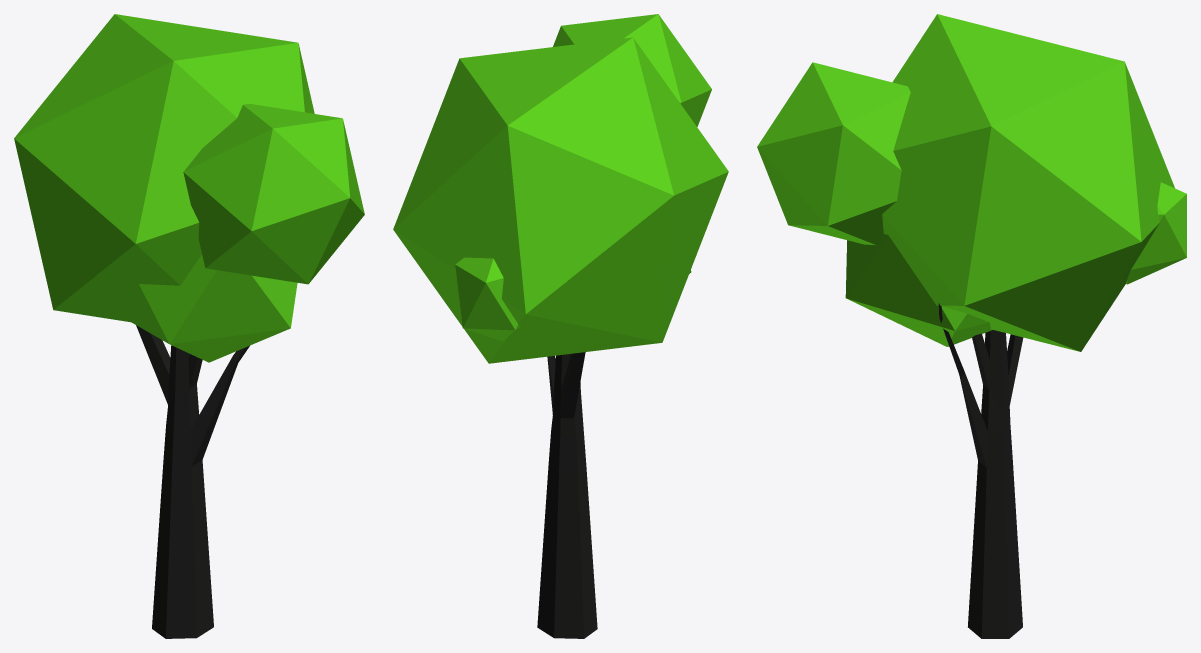
File: tree1.fbx
3 renders of one model, left to right at view 1: azimuth 30°, elevation 25°; view 2: azimuth 150°, elevation 25°; view 3: azimuth 270°, elevation 25°, orthographic. The views are drawn at different scales.
Visible parts, largest first — view 1: Icosphere.015, Icosphere.019, Cylinder.002, Icosphere.018; view 2: Icosphere.015, Cylinder.002, Icosphere.019, Icosphere.017; view 3: Icosphere.015, Icosphere.019, Cylinder.002, Icosphere.018, Icosphere.017.
Part boxes in pixels (left/top/right/bottom): Icosphere.015: left=14, top=14, right=314, bottom=322; Icosphere.019: left=183, top=103, right=364, bottom=284; Cylinder.002: left=136, top=325, right=249, bottom=638; Icosphere.018: left=120, top=254, right=297, bottom=362; Icosphere.015: left=393, top=37, right=728, bottom=363; Cylinder.002: left=537, top=352, right=597, bottom=638; Icosphere.019: left=553, top=14, right=711, bottom=126; Icosphere.017: left=455, top=257, right=520, bottom=341; Icosphere.015: left=882, top=14, right=1174, bottom=351; Icosphere.019: left=757, top=62, right=910, bottom=245; Cylinder.002: left=938, top=303, right=1023, bottom=638; Icosphere.018: left=845, top=234, right=992, bottom=346; Icosphere.017: left=1126, top=182, right=1186, bottom=284.
Bounding box in the file's own units: 204 × 418 × 274.
